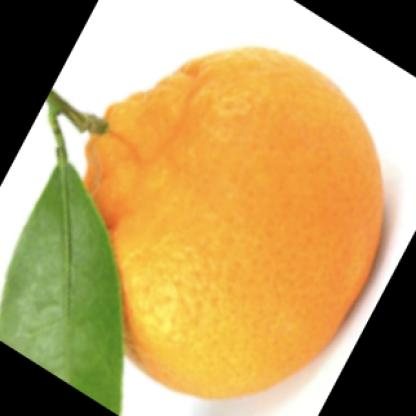fresh: (61, 49, 382, 396)
